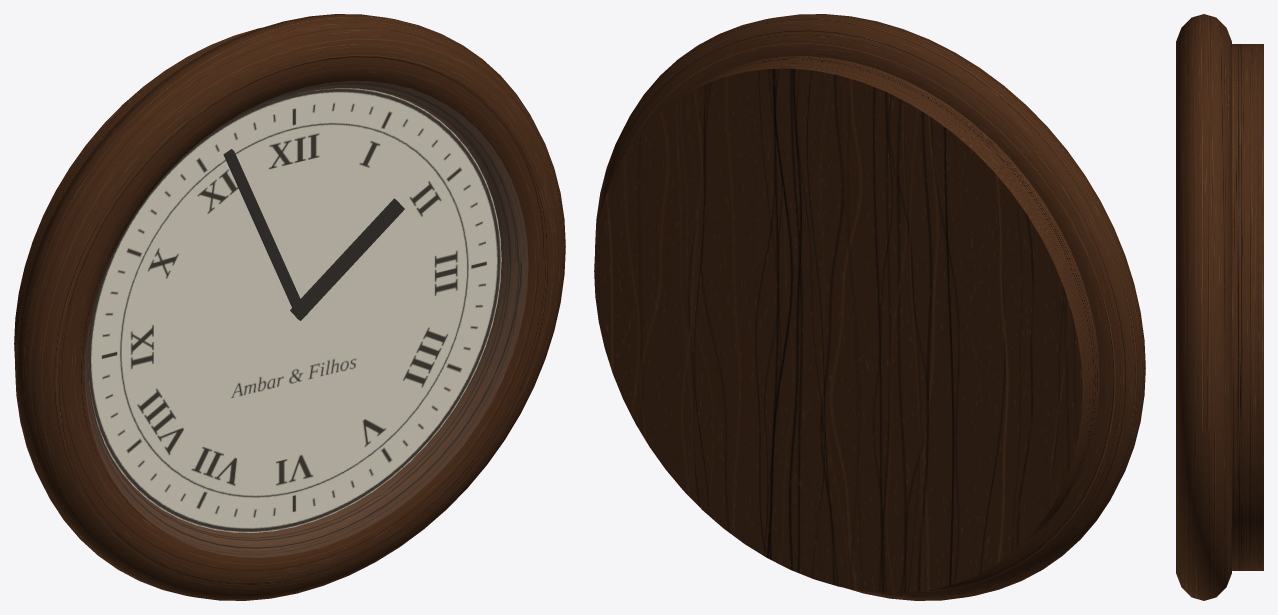
Rendered from relogio-parede-romanos.glb.
3 renders of one model, left to right at view 1: azimuth 30°, elevation 25°; view 2: azimuth 150°, elevation 25°; view 3: azimuth 270°, elevation 25°, orthographic. The views are drawn at different scales.
Parts seen in each view (by area): view 1: wallClock; view 2: wallClock; view 3: wallClock.
Part boxes in pixels (x1=…): wallClock: x1=14, y1=14, x2=565, y2=600; wallClock: x1=594, y1=14, x2=1145, y2=600; wallClock: x1=1176, y1=14, x2=1263, y2=600.
Bounding box in the file's own units: 0.49 × 0.49 × 0.075.
Materials: 5 (3 with a texture image).
